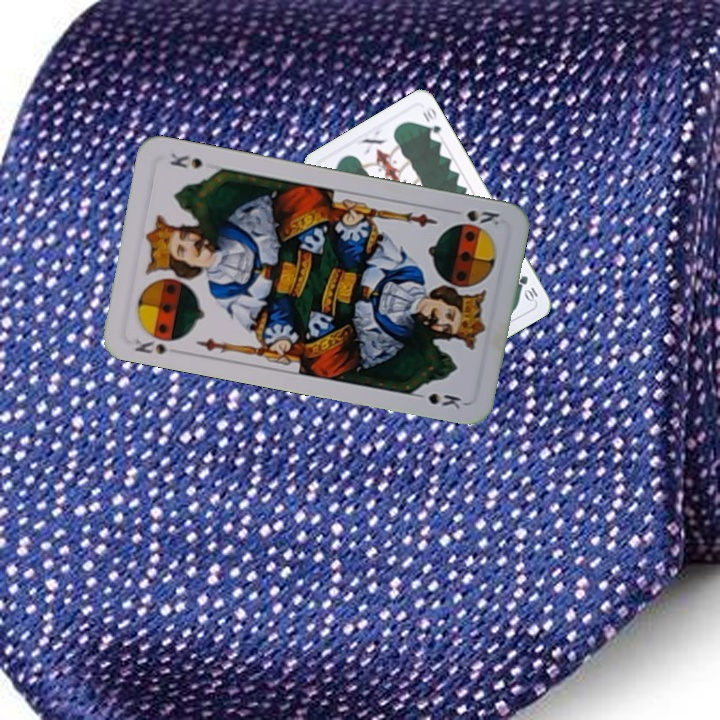G10: (515, 271, 540, 304)
SK: (445, 205, 502, 232), (130, 334, 170, 357)
